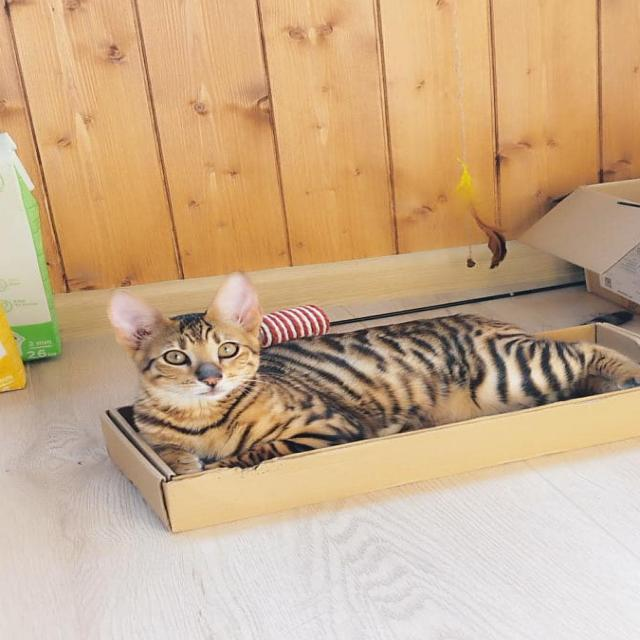Toyger: (101, 268, 640, 481)
